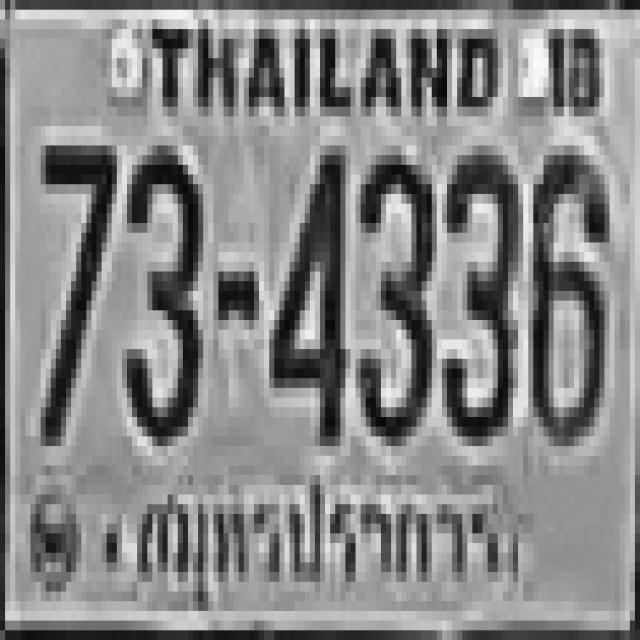3: (122, 136, 198, 436), (356, 146, 432, 437), (440, 146, 516, 437)
4: (267, 140, 343, 432)
6: (528, 146, 604, 437)
7: (38, 136, 114, 436)
SamutPrakan: (128, 464, 506, 614)
